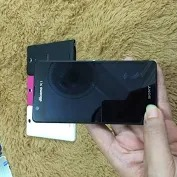sony: (33, 55, 158, 127)
